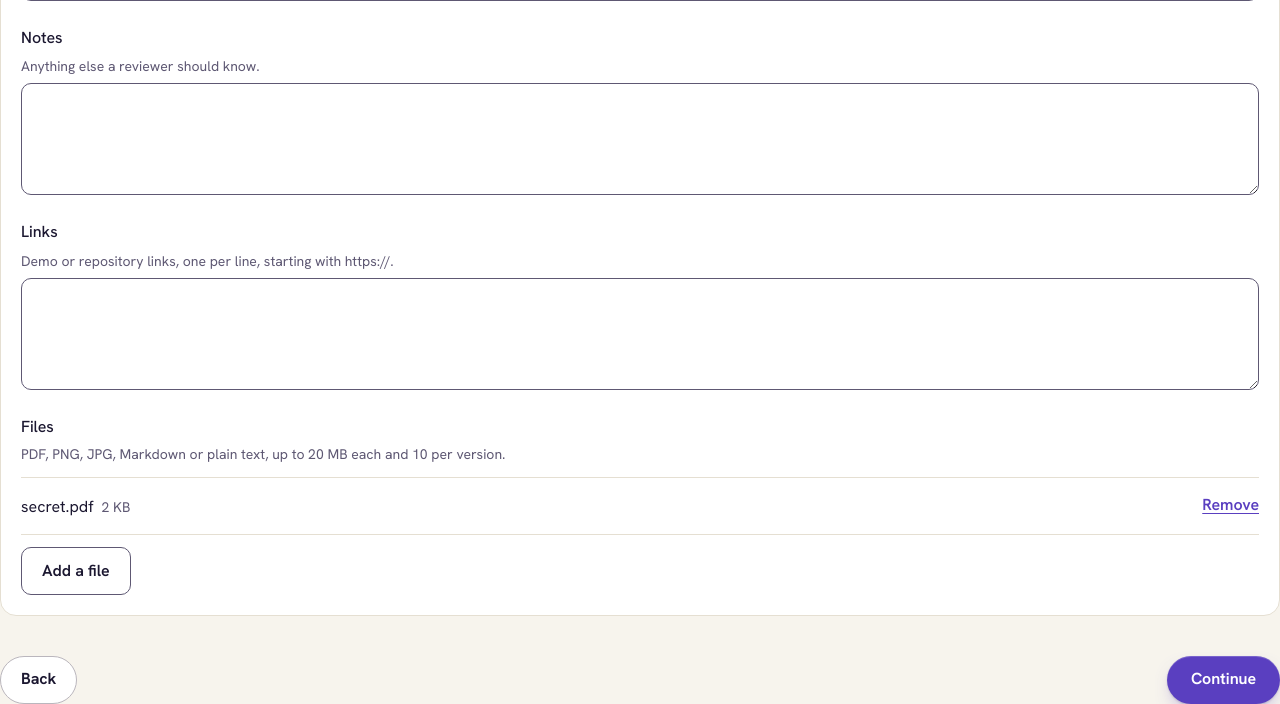
it: files of a published idea › keeps a file the API did not remove and says so
(page scrolled)
Click the button with aria-label "Remove secret.pdf" at {"x": 1231, "y": 506}, box [1202,484,1259,528]
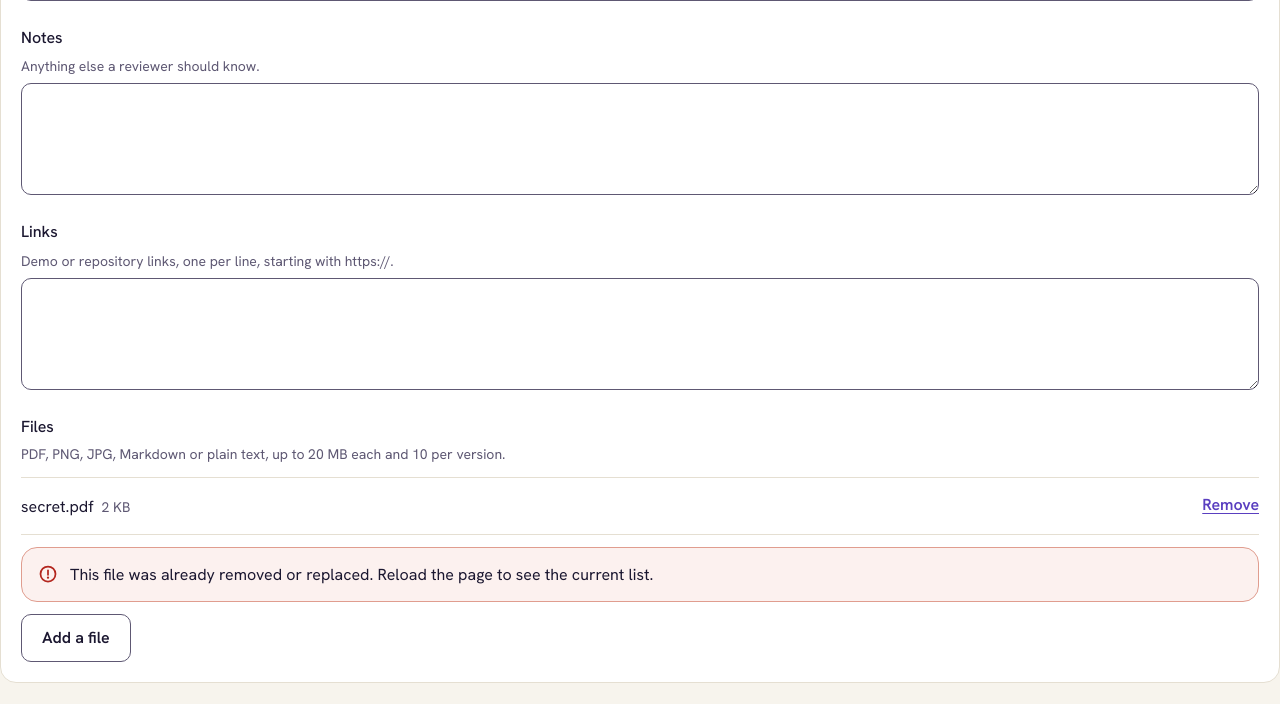
Expected: the text "secret.pdf" is shown, [21,496,94,517]
Expected: the message is shown, [21,547,1259,602]
